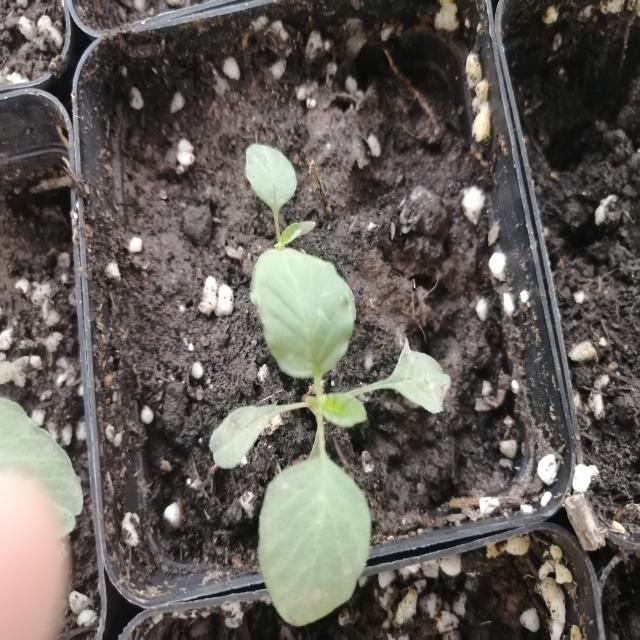pigweed: (204, 233, 416, 640)
